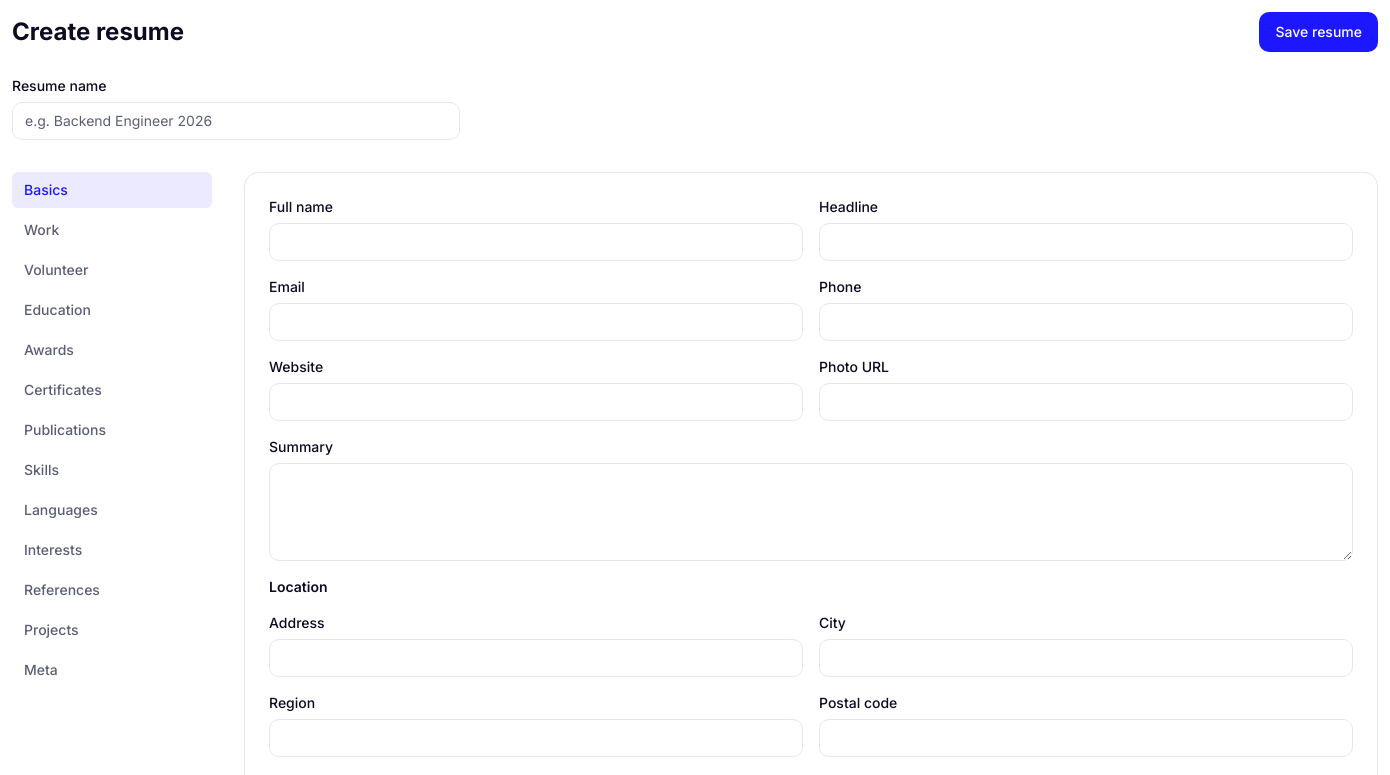
Test: ResumeEditorPage › renders section navigation and switches sections
Check: the field labelled "Full name" is shown, box x1=269 y1=223 x2=803 y2=261
Click the button "Skills".
click(112, 470)  # box x1=12 y1=452 x2=212 y2=488
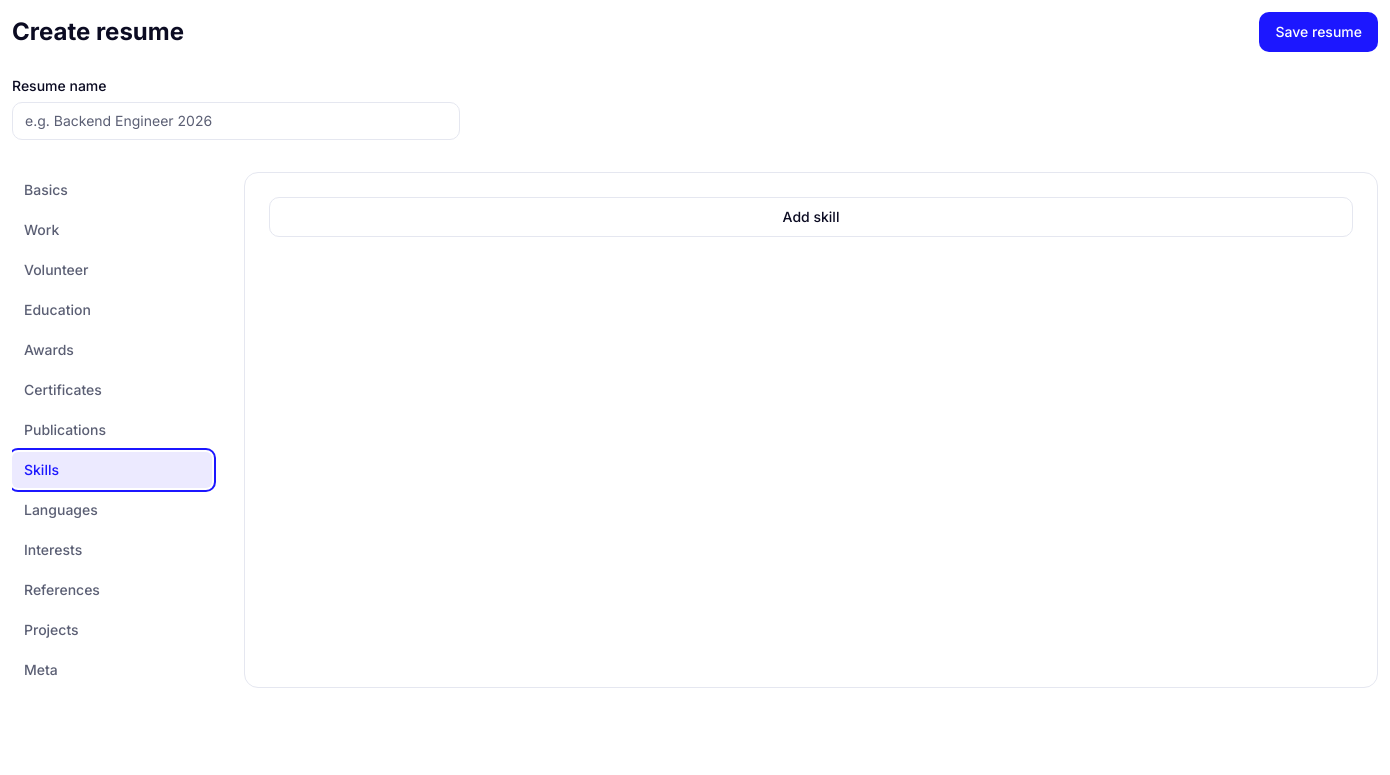
Check: the button "Add skill" is shown, box x1=269 y1=197 x2=1353 y2=237
